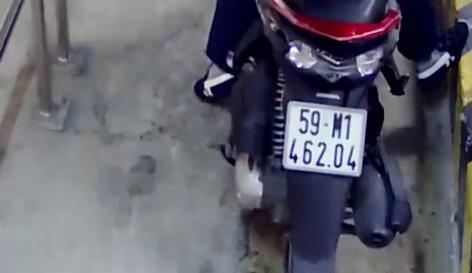lisence: (282, 101, 367, 178)
